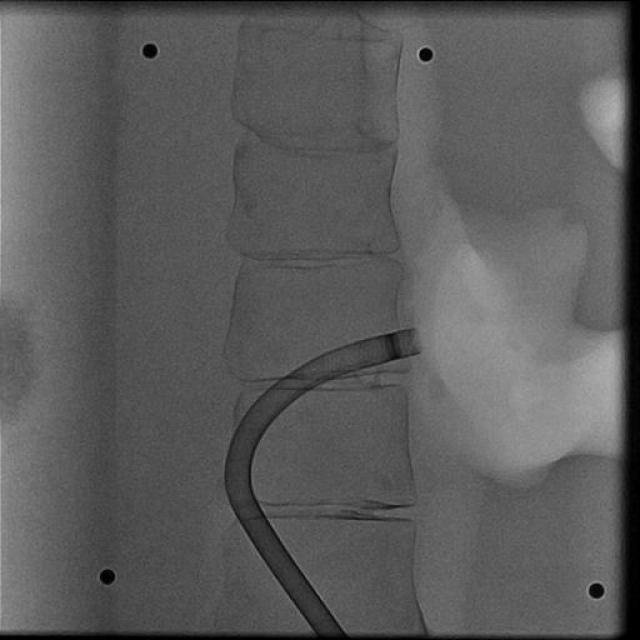bend: (223, 478, 256, 498)
entry: (314, 627, 347, 636)
marker: (382, 330, 403, 360)
tip: (412, 330, 422, 352)
